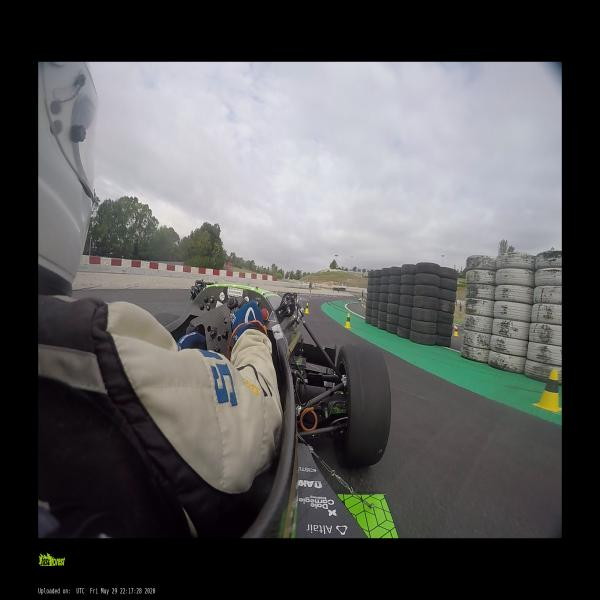orange_cone: (453, 323, 456, 329)
yellow_cone: (534, 369, 562, 413), (344, 313, 352, 329), (304, 303, 310, 314), (453, 326, 458, 336), (364, 303, 365, 308), (362, 301, 363, 306)
